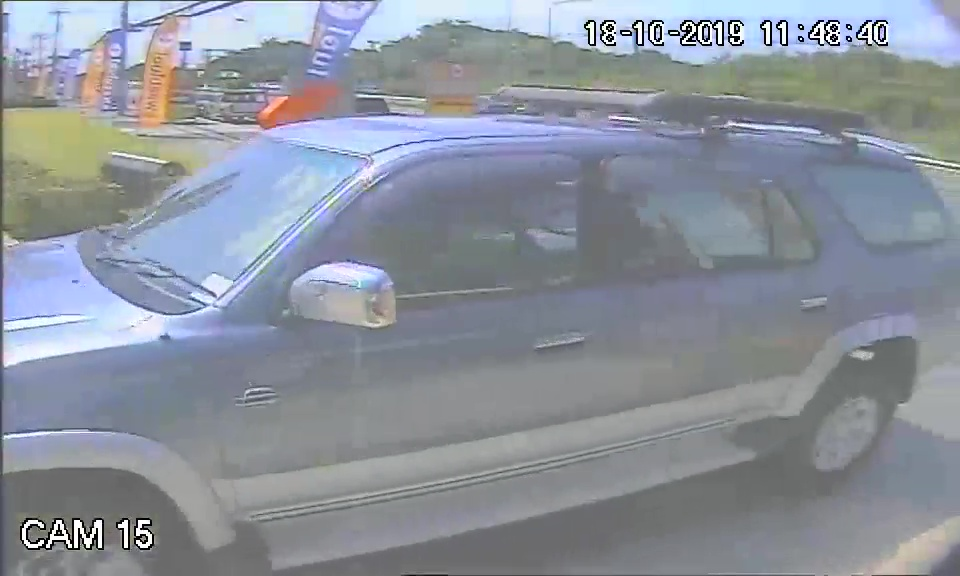pickup: (15, 113, 947, 568)
